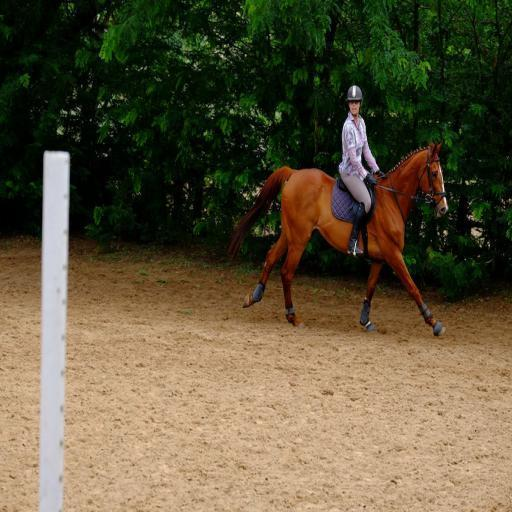horse: (228, 136, 448, 339)
